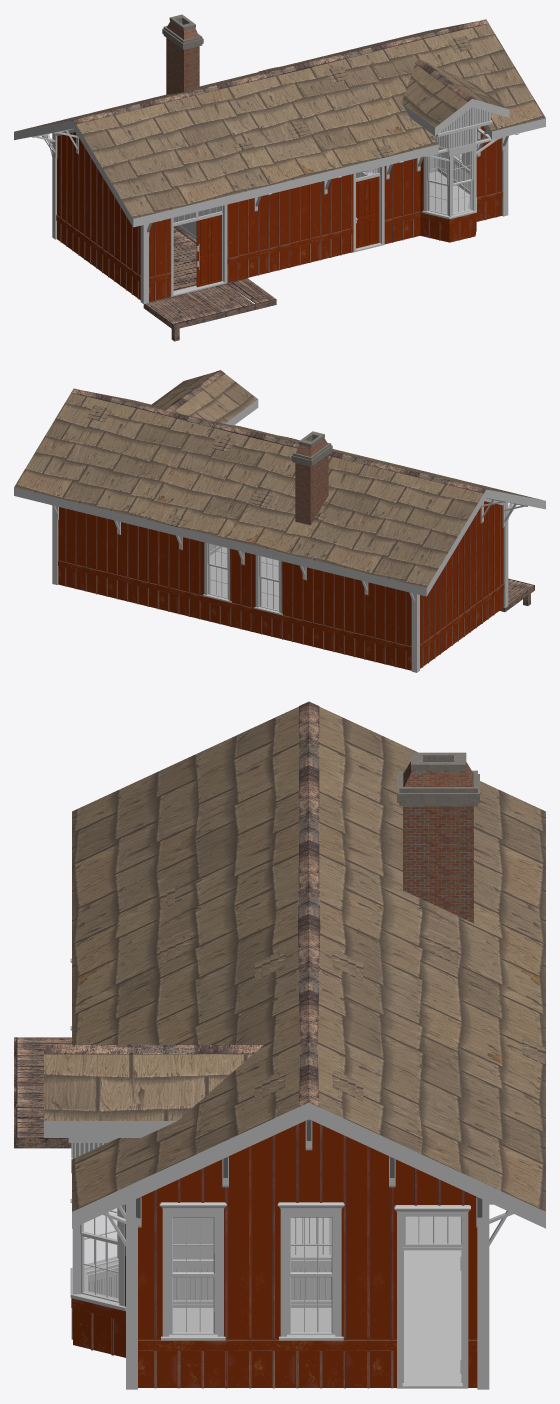
Rendered from Depot.fbx.
3 views of the same model, one above another, from view 1: azimuth 30°, elevation 25°; view 2: azimuth 150°, elevation 25°; view 3: azimuth 270°, elevation 25° (orthographic). The views are drawn at different scales.
Visible parts, largest first — view 1: Roof, Walls_Outside, Walls_Inside, Chimney, Depot_Floors_Platform, Depot_Floors_Platform_Broken, Storage_Door, Entrance_Door; view 2: Roof, Walls_Outside, Chimney, Walls_Inside, Depot_Floors_Platform; view 3: Roof, Walls_Outside, Walls_Inside, Chimney, Depot_Floors_Platform_Broken, Depot_Floors_Platform.
Boxes of the visible parts, left/top/right/bottom form: Roof: left=14, top=19, right=545, bottom=227; Walls_Outside: left=32, top=107, right=519, bottom=303; Walls_Inside: left=173, top=152, right=469, bottom=290; Chimney: left=162, top=14, right=203, bottom=94; Depot_Floors_Platform: left=143, top=291, right=224, bottom=329; Depot_Floors_Platform_Broken: left=197, top=278, right=276, bottom=317; Storage_Door: left=196, top=215, right=221, bottom=287; Entrance_Door: left=356, top=176, right=379, bottom=248; Roof: left=14, top=370, right=545, bottom=596; Walls_Outside: left=52, top=498, right=527, bottom=672; Chimney: left=291, top=431, right=332, bottom=525; Walls_Inside: left=210, top=544, right=278, bottom=609; Depot_Floors_Platform: left=500, top=578, right=534, bottom=611; Roof: left=44, top=701, right=545, bottom=1228; Walls_Outside: left=70, top=958, right=513, bottom=1389; Walls_Inside: left=86, top=1216, right=461, bottom=1379; Chimney: left=397, top=752, right=479, bottom=922; Depot_Floors_Platform_Broken: left=14, top=1087, right=71, bottom=1148; Depot_Floors_Platform: left=14, top=1037, right=71, bottom=1087.
Size of the model in its own units: 1599 by 798 by 898.
